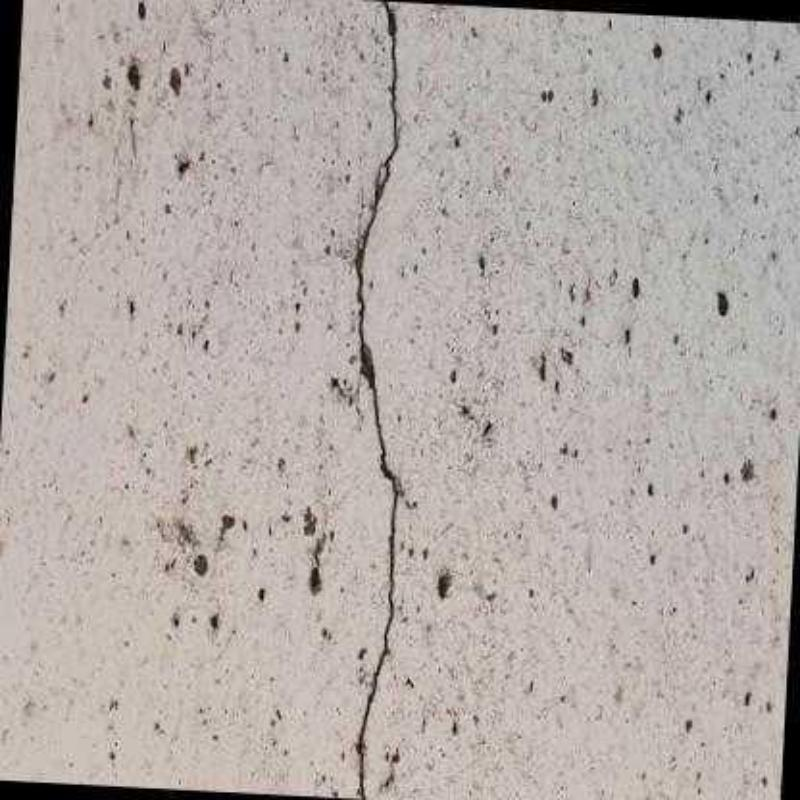pothole: (352, 0, 401, 798)
